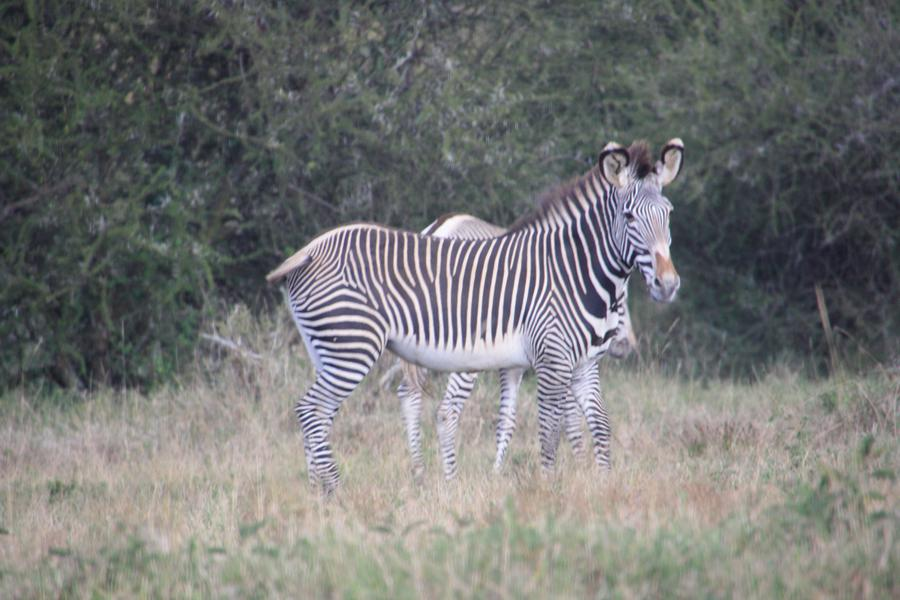zebra_grevys: (277, 219, 594, 359)
